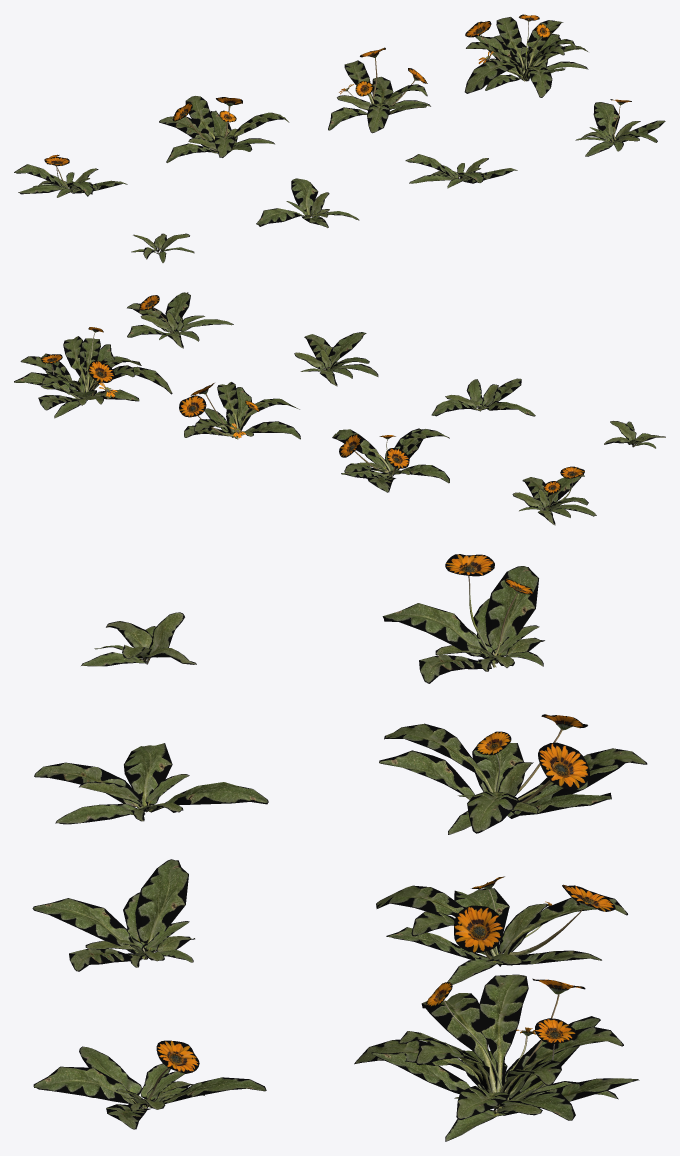
Rendered from flower_gazania.glb.
3 renders of one model, top to bottom at view 1: azimuth 30°, elevation 25°; view 2: azimuth 150°, elevation 25°; view 3: azimuth 270°, elevation 25°, orthographic. The views are drawn at different scales.
Parts seen in each view (by area): view 1: flower_gazania_h_LOD0, flower_gazania_f_LOD0, flower_gazania_g_LOD0, flower_gazania_d_LOD0, flower_gazania_b_LOD0, flower_gazania_e_LOD0, flower_gazania_c_LOD0, flower_gazania_a_LOD0; view 2: flower_gazania_h_LOD0, flower_gazania_g_LOD0, flower_gazania_f_LOD0, flower_gazania_d_LOD0, flower_gazania_e_LOD0, flower_gazania_c_LOD0, flower_gazania_b_LOD0, flower_gazania_a_LOD0; view 3: flower_gazania_h_LOD0, flower_gazania_f_LOD0, flower_gazania_g_LOD0, flower_gazania_e_LOD0, flower_gazania_c_LOD0, flower_gazania_d_LOD0, flower_gazania_b_LOD0, flower_gazania_a_LOD0.
Part boxes in pixels (<box>): flower_gazania_h_LOD0: <box>464,14,588,97</box>; flower_gazania_f_LOD0: <box>159,96,289,162</box>; flower_gazania_g_LOD0: <box>328,47,430,133</box>; flower_gazania_d_LOD0: <box>575,99,665,156</box>; flower_gazania_b_LOD0: <box>256,178,359,227</box>; flower_gazania_e_LOD0: <box>14,154,127,197</box>; flower_gazania_c_LOD0: <box>405,154,517,188</box>; flower_gazania_a_LOD0: <box>131,233,194,262</box>; flower_gazania_h_LOD0: <box>14,327,172,418</box>; flower_gazania_g_LOD0: <box>179,382,300,439</box>; flower_gazania_f_LOD0: <box>332,428,449,492</box>; flower_gazania_d_LOD0: <box>127,292,233,348</box>; flower_gazania_e_LOD0: <box>512,466,596,525</box>; flower_gazania_c_LOD0: <box>294,332,378,386</box>; flower_gazania_b_LOD0: <box>431,378,535,416</box>; flower_gazania_a_LOD0: <box>604,421,665,448</box>; flower_gazania_h_LOD0: <box>354,974,639,1141</box>; flower_gazania_f_LOD0: <box>379,714,647,834</box>; flower_gazania_g_LOD0: <box>376,876,627,984</box>; flower_gazania_e_LOD0: <box>382,554,544,683</box>; flower_gazania_c_LOD0: <box>32,859,194,971</box>; flower_gazania_d_LOD0: <box>33,1040,266,1129</box>; flower_gazania_b_LOD0: <box>34,743,268,824</box>; flower_gazania_a_LOD0: <box>81,612,196,666</box>.
Size of the model in its own units: 1.48 by 0.1655 by 0.7028.
Materials: 1 (1 with a texture image).
